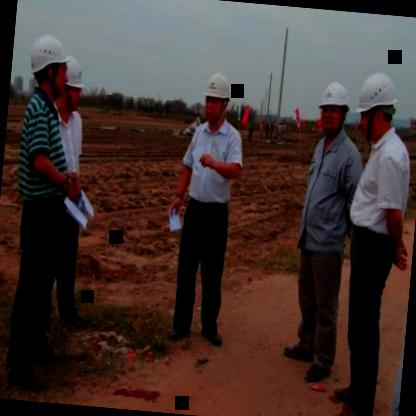helmet: (350, 66, 401, 146), (24, 30, 78, 102), (313, 75, 356, 138), (198, 64, 236, 128), (56, 48, 90, 115)
